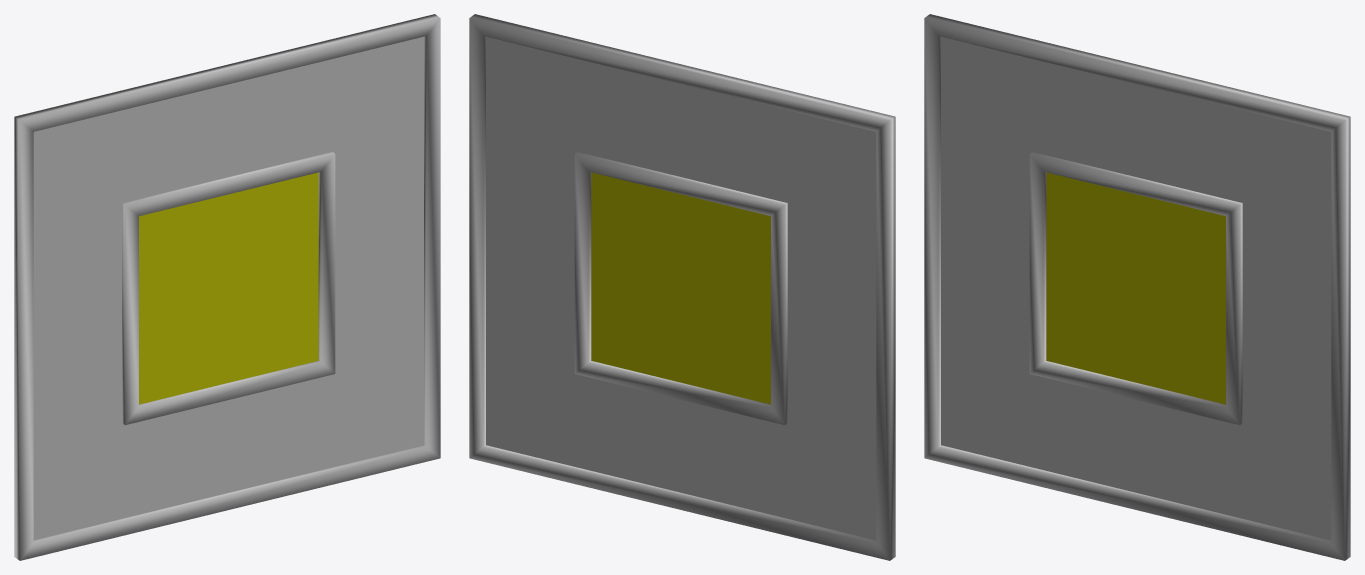
File: abstract-2.fbx
The picture shows the model from 3 angles, left to right: view 1: azimuth 30°, elevation 25°; view 2: azimuth 150°, elevation 25°; view 3: azimuth 330°, elevation 25°; orthographic projection.
Parts seen in each view (by area): view 1: polySurface93, polySurface91, polySurface94, polySurface92; view 2: polySurface93, polySurface91, polySurface94, polySurface92; view 3: polySurface93, polySurface91, polySurface94, polySurface92.
Boxes of the visible parts, left/top/right/bottom form: polySurface93: left=33, top=36, right=423, bottom=540; polySurface91: left=139, top=172, right=318, bottom=404; polySurface94: left=14, top=14, right=440, bottom=560; polySurface92: left=122, top=152, right=335, bottom=425; polySurface93: left=486, top=36, right=876, bottom=540; polySurface91: left=591, top=172, right=770, bottom=404; polySurface94: left=469, top=14, right=895, bottom=560; polySurface92: left=574, top=152, right=787, bottom=425; polySurface93: left=941, top=36, right=1331, bottom=540; polySurface91: left=1046, top=172, right=1225, bottom=404; polySurface94: left=924, top=14, right=1350, bottom=560; polySurface92: left=1029, top=152, right=1242, bottom=425.
Size of the model in its own units: 5.37 by 5.37 by 0.125.
